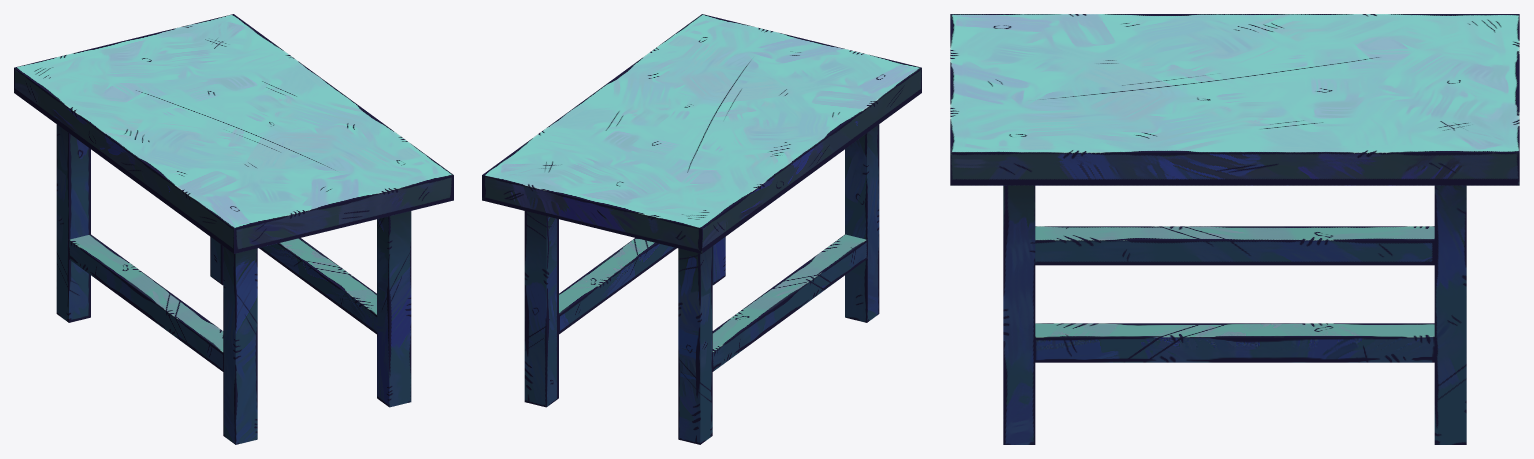
File: Table.fbx
3 views of the same model, side by side, from view 1: azimuth 30°, elevation 25°; view 2: azimuth 150°, elevation 25°; view 3: azimuth 270°, elevation 25° (orthographic). The views are drawn at different scales.
Parts seen in each view (by area): view 1: pCube5; view 2: pCube5; view 3: pCube5.
Boxes of the visible parts, left/top/right/bottom form: pCube5: left=14, top=14, right=453, bottom=444; pCube5: left=482, top=14, right=921, bottom=444; pCube5: left=950, top=14, right=1519, bottom=444.
Size of the model in its own units: 0.6467 by 0.6655 by 1.12.
1 material, 1 textured.
